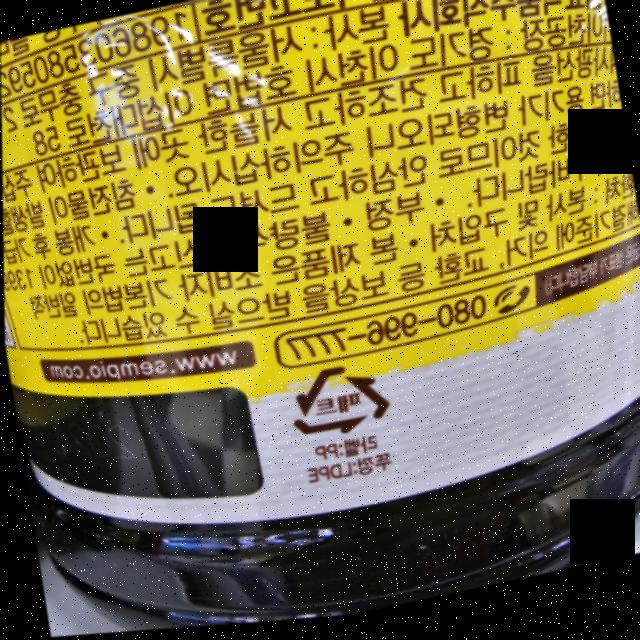PET: (276, 355, 394, 456)
